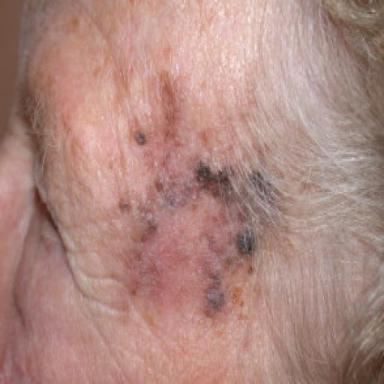Melanoma: (119, 71, 291, 325)
